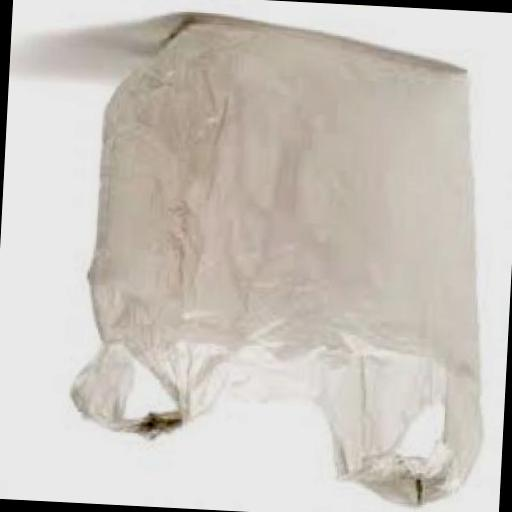plastic: (67, 11, 505, 512)
